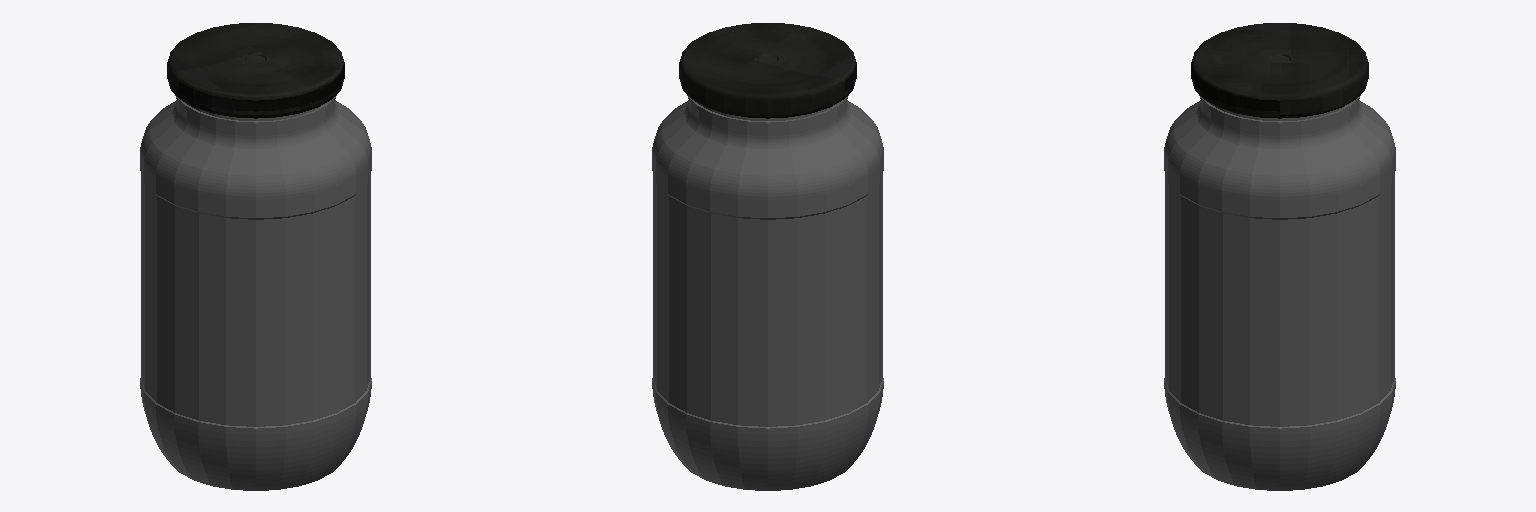
The picture shows the model from 3 angles: view 1: azimuth 30°, elevation 25°; view 2: azimuth 150°, elevation 25°; view 3: azimuth 270°, elevation 25°; orthographic projection.
Visible parts, largest first — view 1: mesh30_mesh30-geometry, mesh1_mesh1-geometry; view 2: mesh30_mesh30-geometry, mesh1_mesh1-geometry; view 3: mesh30_mesh30-geometry, mesh1_mesh1-geometry.
Part boxes in pixels (x1,y1,x2,y2): mesh30_mesh30-geometry: (140,95,371,490); mesh1_mesh1-geometry: (167,23,344,118); mesh30_mesh30-geometry: (652,95,883,490); mesh1_mesh1-geometry: (679,23,856,118); mesh30_mesh30-geometry: (1164,95,1395,490); mesh1_mesh1-geometry: (1191,23,1368,118).
Bounding box in the file's own units: 0.4247 × 0.7995 × 0.4247.
Materials: 2 (1 with a texture image).